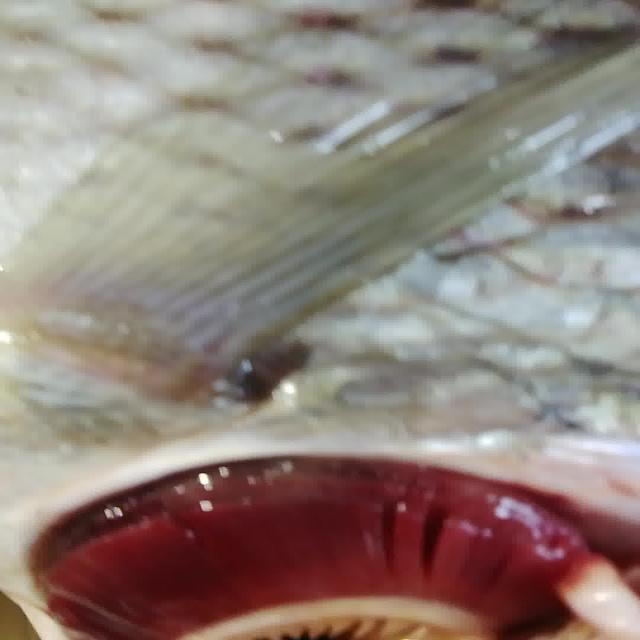Fresh: (22, 447, 617, 640)
